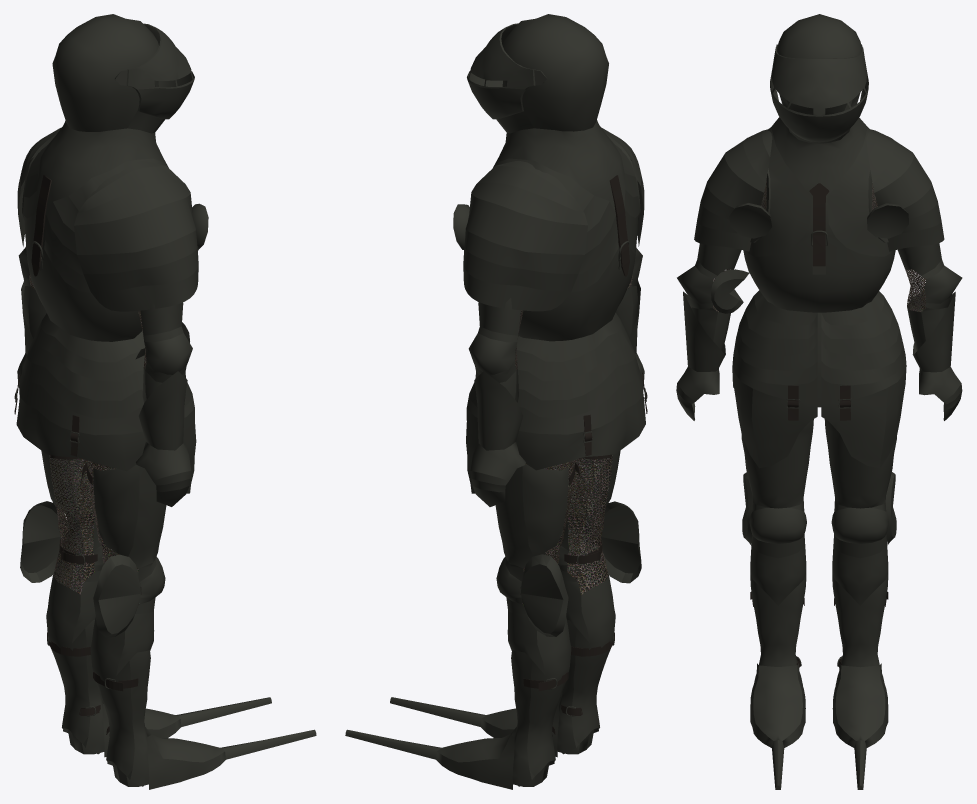
The model's file is KnightX.FBX.
The picture shows the model from 3 angles, left to right: view 1: azimuth 30°, elevation 25°; view 2: azimuth 150°, elevation 25°; view 3: azimuth 270°, elevation 25°; orthographic projection. The views are drawn at different scales.
Parts seen in each view (by area): view 1: FR1MAIN, FR1SHOUL, FR1HELME, FR1GLOUL, FR1LGIKR, FR1LEGKR, FR1BOOTR, FR1LGIKL, FR1PEAK, FR1CALKL, FR1SHKNL, FR1SHKNR (+17 smaller); view 2: FR1MAIN, FR1SHOUR, FR1HELME, FR1GLOUR, FR1LGIKL, FR1BOOTL, FR1LEGKL, FR1LGIKR, FR1PEAK, FR1CALKR, FR1SHKNR, FR1SHKNL (+15 smaller); view 3: FR1MAIN, FR1HELME, FR1PEAK, FR1SHOUL, FR1SHOUR, FR1BOOTR, FR1BOOTL, FR1LEGIR, FR1LEGIL, FR1CALFR, FR1CALFL, FR1GLOUL (+19 smaller).
Part boxes in pixels (x1,y1,x2,y2): FR1MAIN: (16, 145, 196, 493); FR1SHOUL: (74, 161, 198, 311); FR1HELME: (37, 14, 167, 214); FR1GLOUL: (136, 371, 191, 506); FR1LGIKR: (46, 575, 90, 743); FR1LEGKR: (49, 455, 96, 594); FR1BOOTR: (145, 727, 316, 789); FR1LGIKL: (90, 617, 134, 776); FR1PEAK: (126, 23, 194, 119); FR1CALKL: (93, 465, 139, 556); FR1SHKNL: (93, 554, 141, 637); FR1SHKNR: (20, 501, 67, 582); FR1MAIN: (466, 145, 645, 493); FR1SHOUR: (463, 161, 587, 311); FR1HELME: (493, 14, 625, 213); FR1GLOUR: (470, 371, 525, 506); FR1LGIKL: (571, 575, 615, 743); FR1BOOTL: (345, 727, 516, 789); FR1LEGKL: (564, 454, 612, 594); FR1LGIKR: (527, 616, 571, 776); FR1PEAK: (467, 23, 535, 119); FR1CALKR: (522, 464, 568, 556); FR1SHKNR: (520, 554, 568, 636); FR1SHKNL: (594, 501, 641, 583); FR1MAIN: (732, 127, 906, 468); FR1HELME: (771, 14, 867, 199); FR1PEAK: (770, 47, 868, 142); FR1SHOUL: (694, 129, 772, 251); FR1SHOUR: (866, 129, 944, 251); FR1BOOTR: (750, 663, 805, 789); FR1BOOTL: (832, 663, 888, 789); FR1LEGIR: (832, 574, 888, 685); FR1LEGIL: (750, 574, 806, 685); FR1CALFR: (825, 419, 896, 508); FR1CALFL: (741, 419, 813, 508); FR1GLOUL: (676, 291, 725, 420).
Size of the model in its own units: 3328 by 9187 by 3463.
